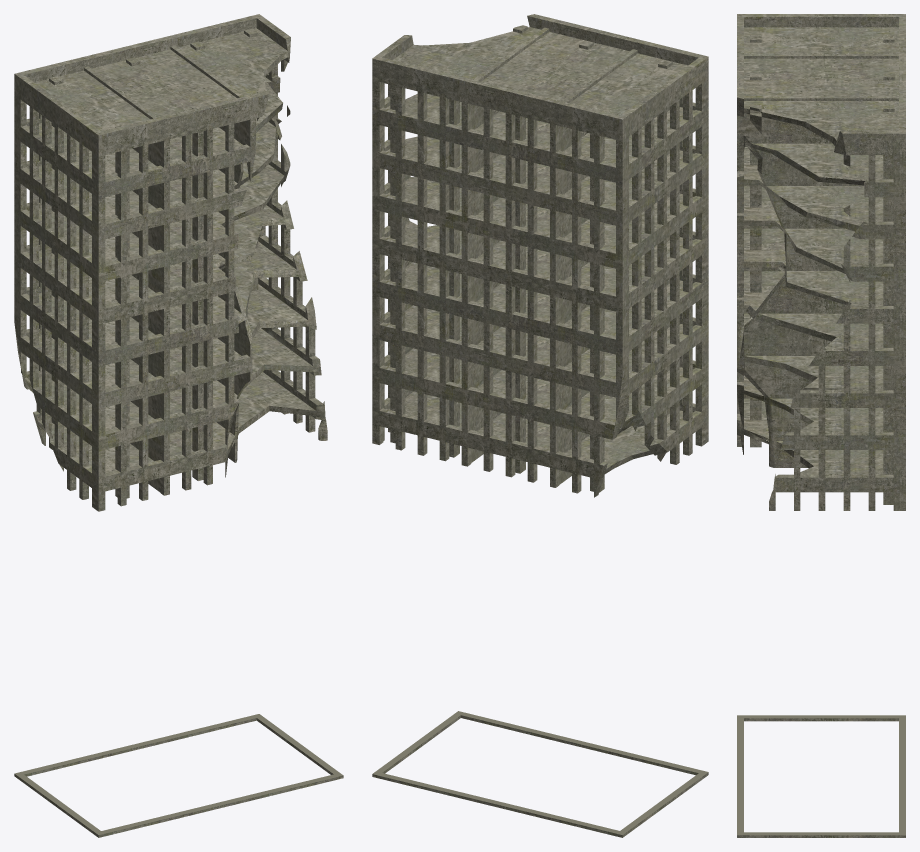
3 views of the same model, side by side, from view 1: azimuth 30°, elevation 25°; view 2: azimuth 150°, elevation 25°; view 3: azimuth 270°, elevation 25° (orthographic). The views are drawn at different scales.
Visible parts, largest first — view 1: Cube.003_1; view 2: Cube.003_1; view 3: Cube.003_1.
Part boxes in pixels (x1=…): Cube.003_1: x1=14, y1=14, x2=343, y2=837; Cube.003_1: x1=372, y1=14, x2=708, y2=837; Cube.003_1: x1=737, y1=14, x2=905, y2=837.
Bounding box in the file's own units: 3.14 × 8.59 × 1.87.
1 material, 1 textured.
